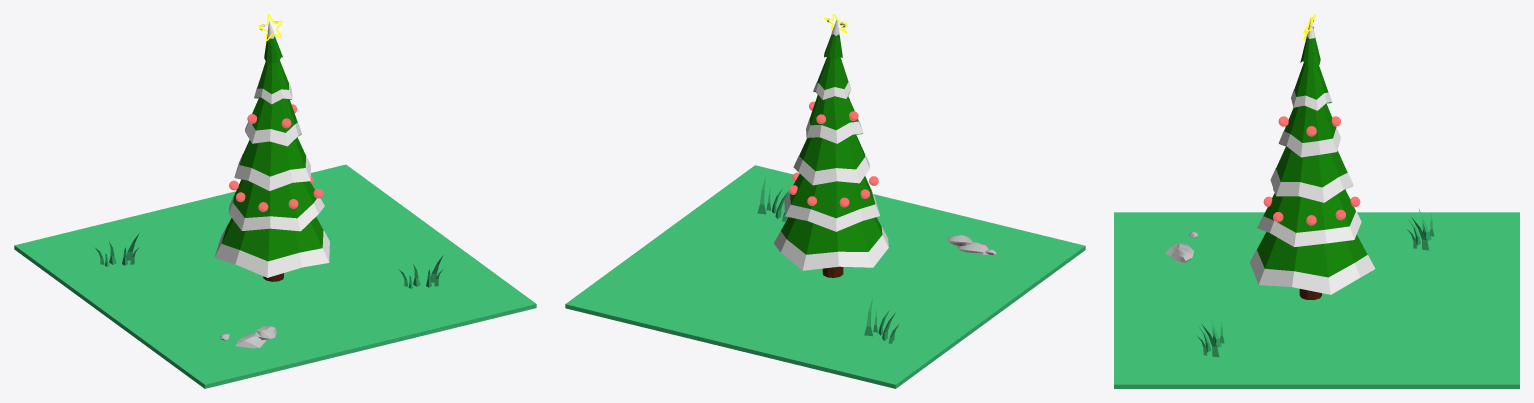
Rendered from christmasTree.gltf.
3 views of the same model, side by side, from view 1: azimuth 30°, elevation 25°; view 2: azimuth 150°, elevation 25°; view 3: azimuth 270°, elevation 25° (orthographic). The views are drawn at different scales.
Visible parts, largest first — view 1: Box 1, treetop, snow, Clouds; view 2: Box 1, treetop, snow, Grass (×2), Clouds; view 3: Box 1, treetop, snow, Grass (×2), Clouds.
Part boxes in pixels (x1,y1,x2,y2): Box 1: (14, 164, 536, 388); treetop: (221, 36, 323, 261); snow: (214, 21, 329, 277); Clouds: (220, 326, 276, 348); Box 1: (565, 165, 1085, 388); treetop: (781, 34, 882, 254); snow: (774, 20, 888, 270); Grass (×2): (757, 177, 899, 343); Clouds: (947, 235, 996, 255); Box 1: (1114, 212, 1519, 388); treetop: (1257, 37, 1367, 277); snow: (1250, 19, 1375, 294); Grass (×2): (1197, 208, 1434, 357); Clouds: (1165, 231, 1197, 262).
Size of the model in its own units: 0.1603 by 0.1245 by 0.1595.
